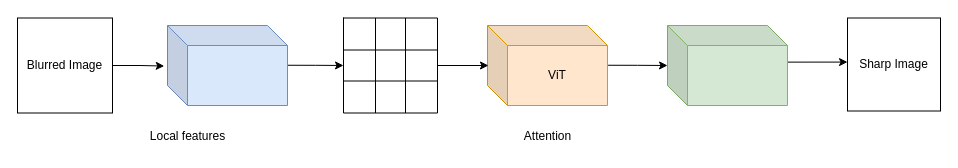
This 958x168 diagram has some shape labels left out. Here are the shapes that lost their labels. From the top down, the box of each, then its label:
(166, 24, 288, 106): Convolutional Block
(666, 24, 788, 106): Reconstruction head
